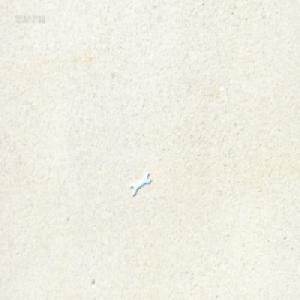Wrench: (130, 171, 151, 197)
